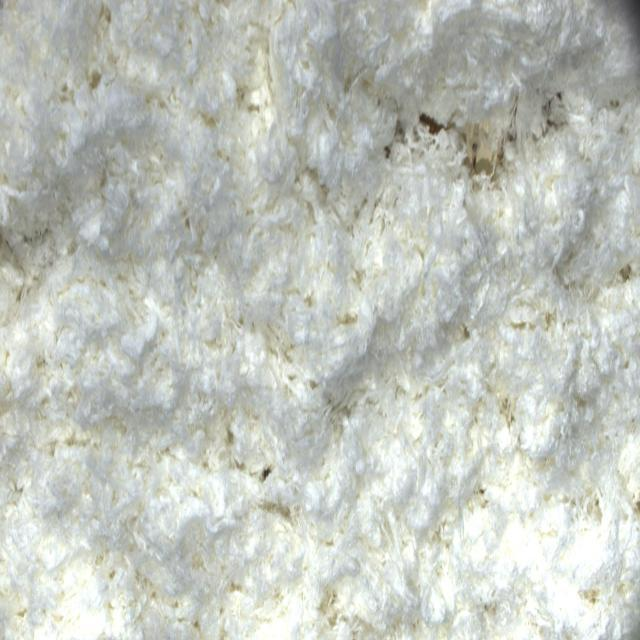dust: (465, 109, 530, 179), (412, 109, 451, 141), (537, 87, 565, 129), (255, 462, 276, 485)
